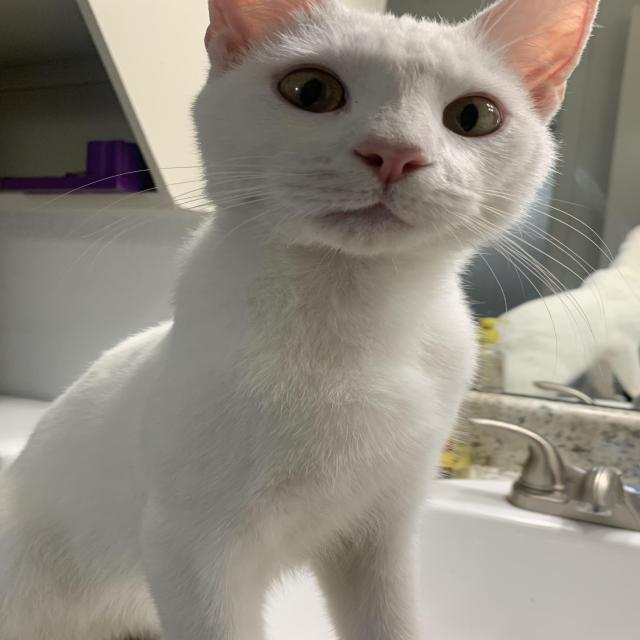Khao Manee: (0, 0, 609, 640)
